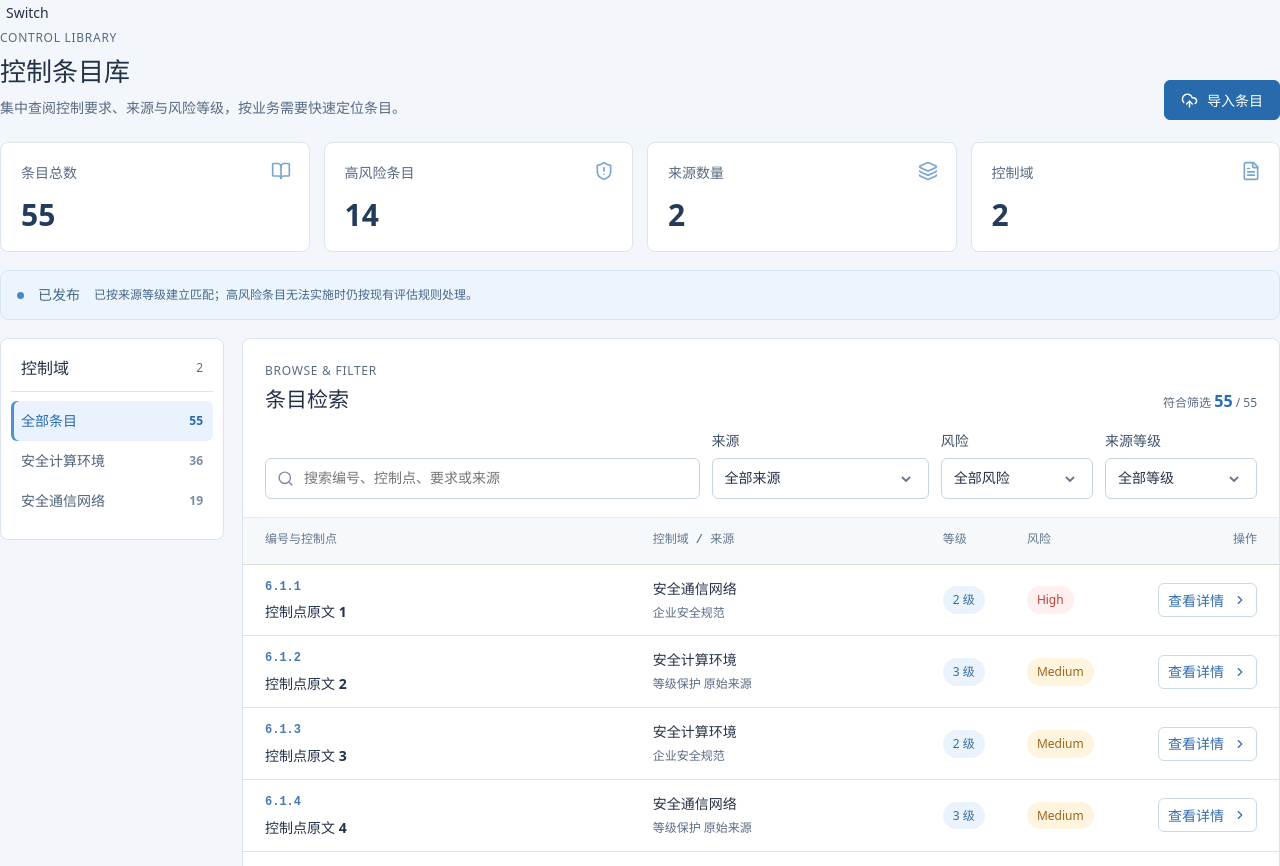
Scenario: opens import on demand and leaves source rows untouched until explicit upload
Click the button "导入条目" at x=1222, y=100, box [1164,80,1279,120]
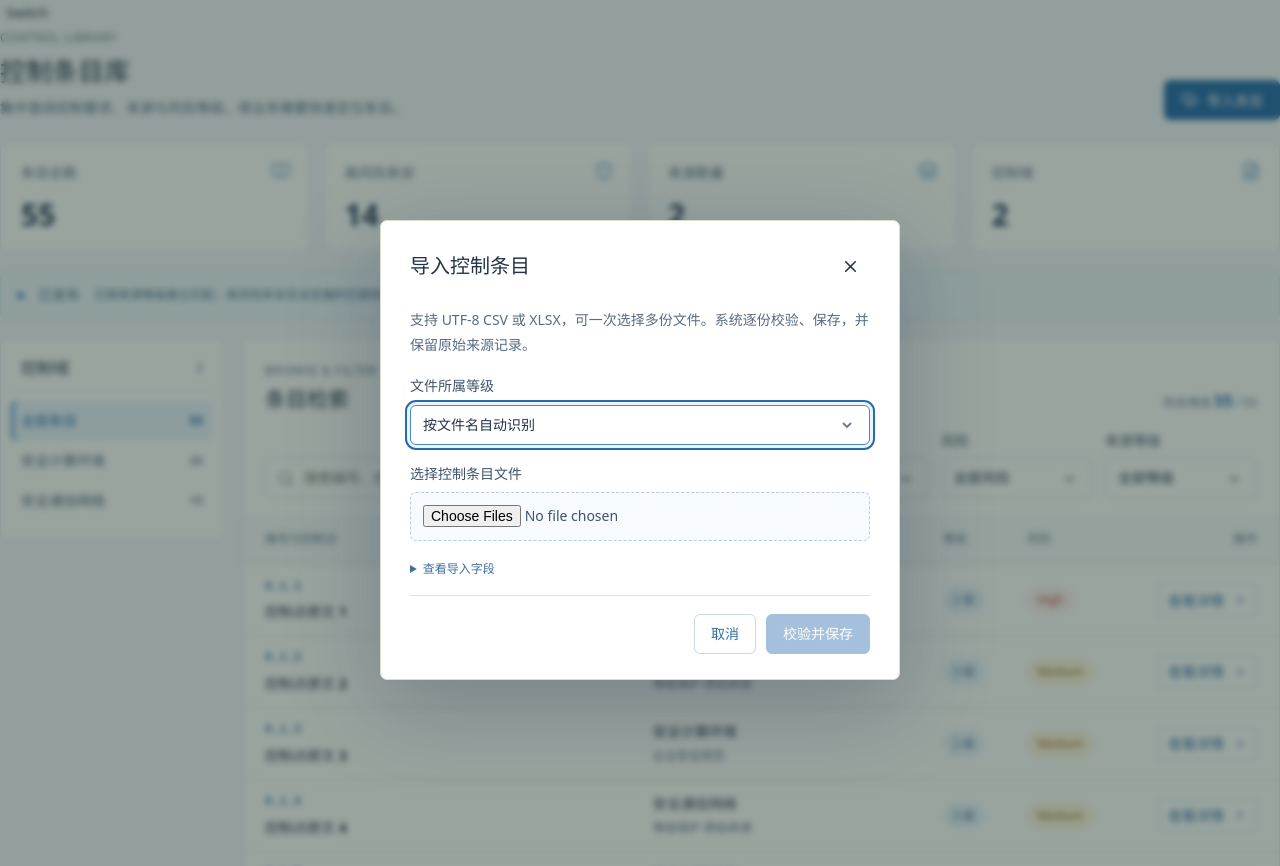
Expected: the button "校验并保存" is disabled, [766,614,870,654]
Click the heading "查看导入字段" at x=459, y=568, box [423,560,495,577]
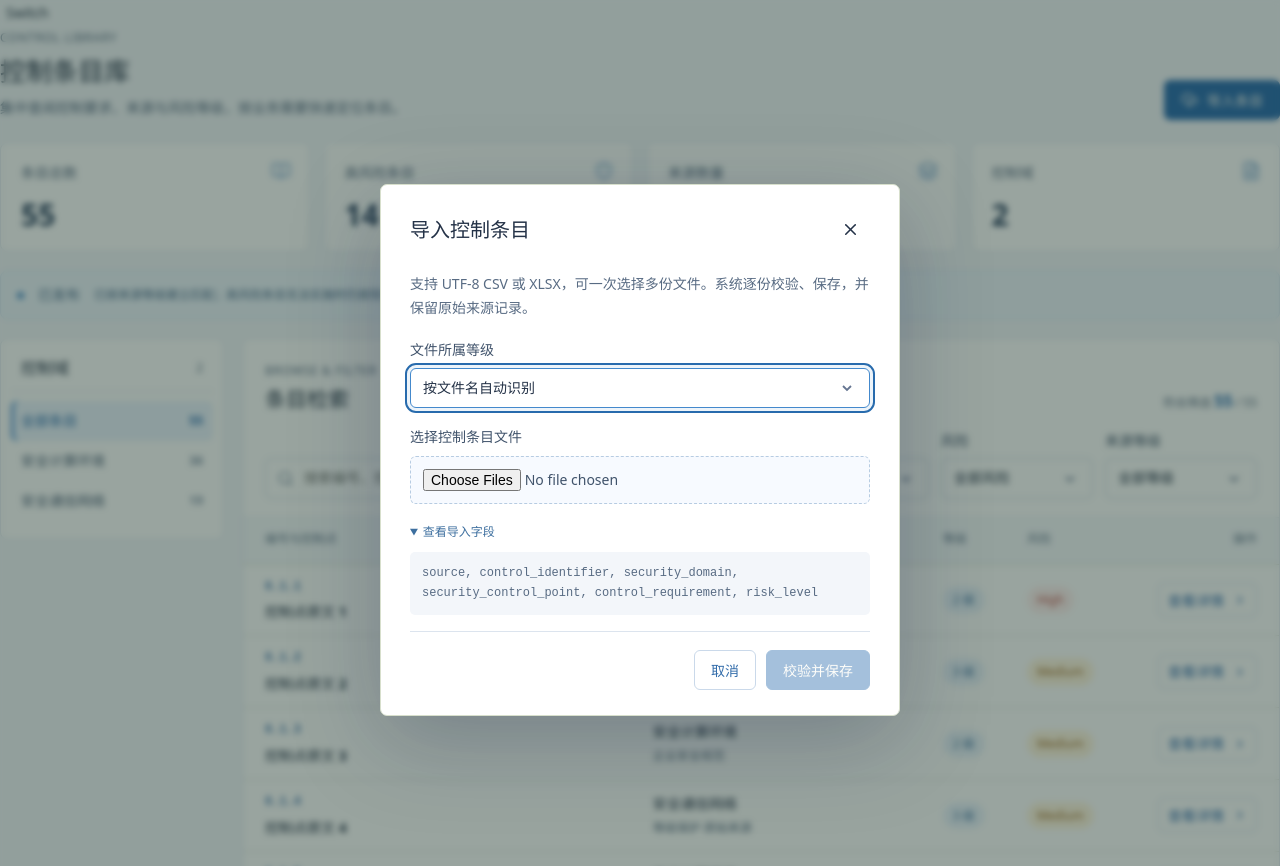
Expected: the text "control_identifier" is shown, [422,566,818,600]
